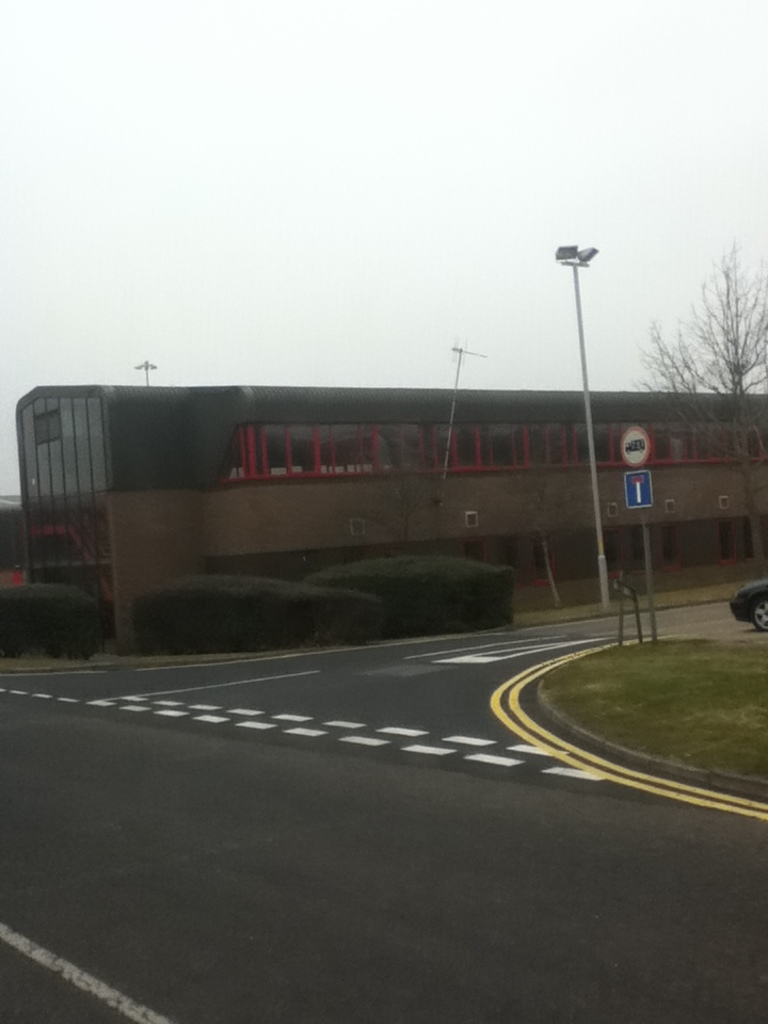Car: (728, 574, 766, 632)
